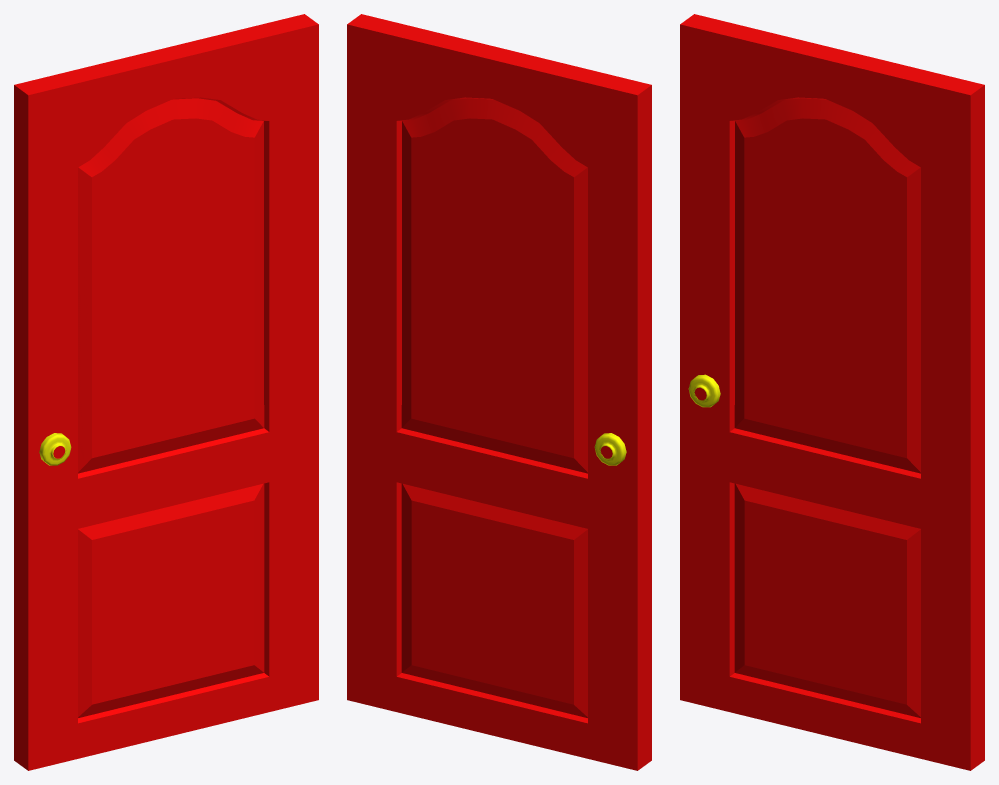
Rendered from doorway_door_6.glb.
3 views of the same model, side by side, from view 1: azimuth 30°, elevation 25°; view 2: azimuth 150°, elevation 25°; view 3: azimuth 330°, elevation 25° (orthographic).
Parts seen in each view (by area): view 1: doorway_door_6; view 2: doorway_door_6; view 3: doorway_door_6.
Boxes of the visible parts, <box> form: doorway_door_6: <box>14,14,318,770</box>; doorway_door_6: <box>347,14,651,770</box>; doorway_door_6: <box>680,14,984,770</box>.
Bounding box in the file's own units: 0.9144 × 2.03 × 0.1343.
